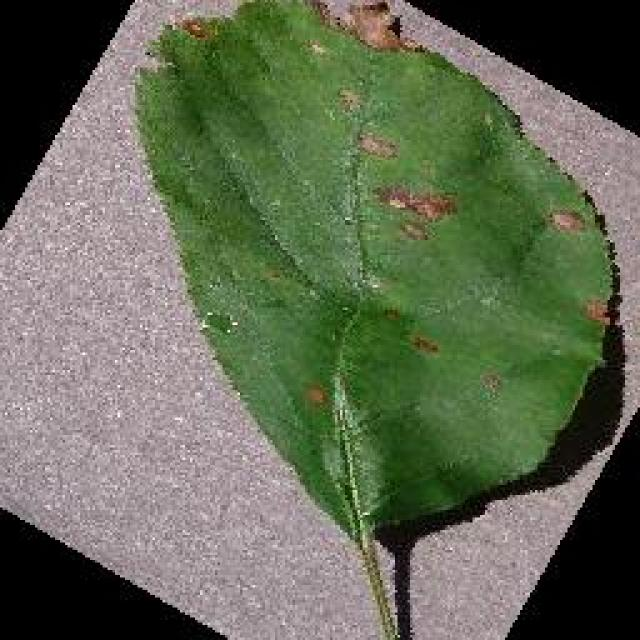Black_rot: (125, 0, 623, 638)
